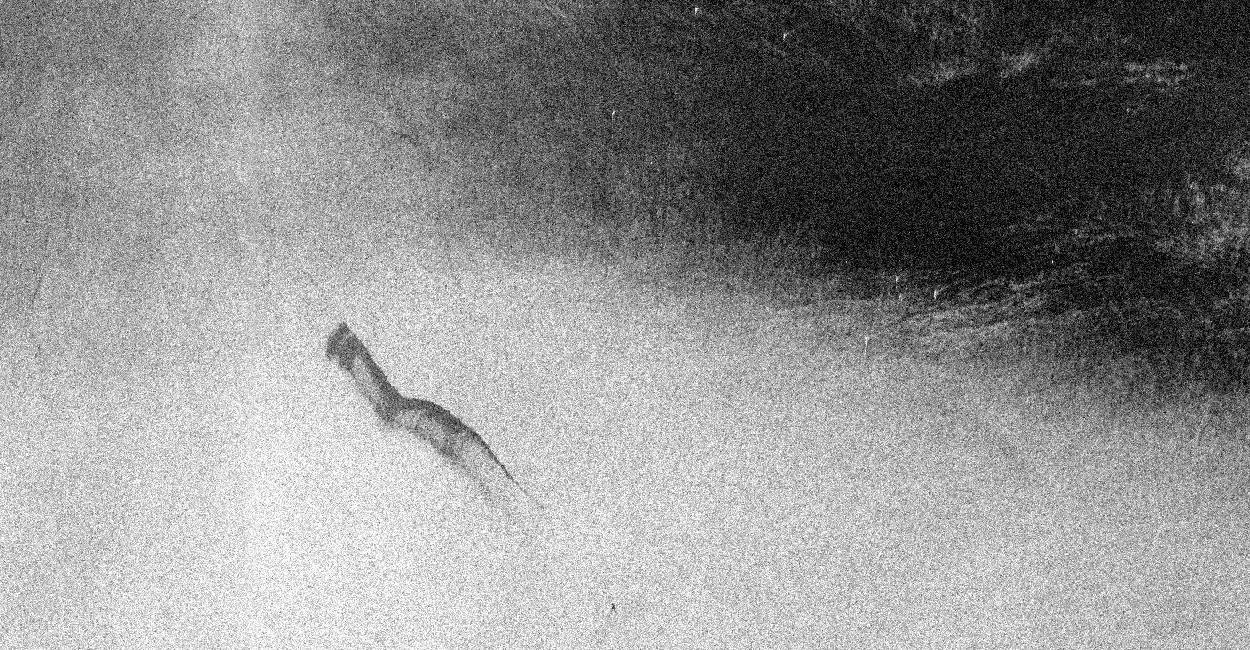Look-alike: (652, 0, 1250, 396)
Oil Spill: (322, 314, 514, 484), (466, 448, 483, 464)
